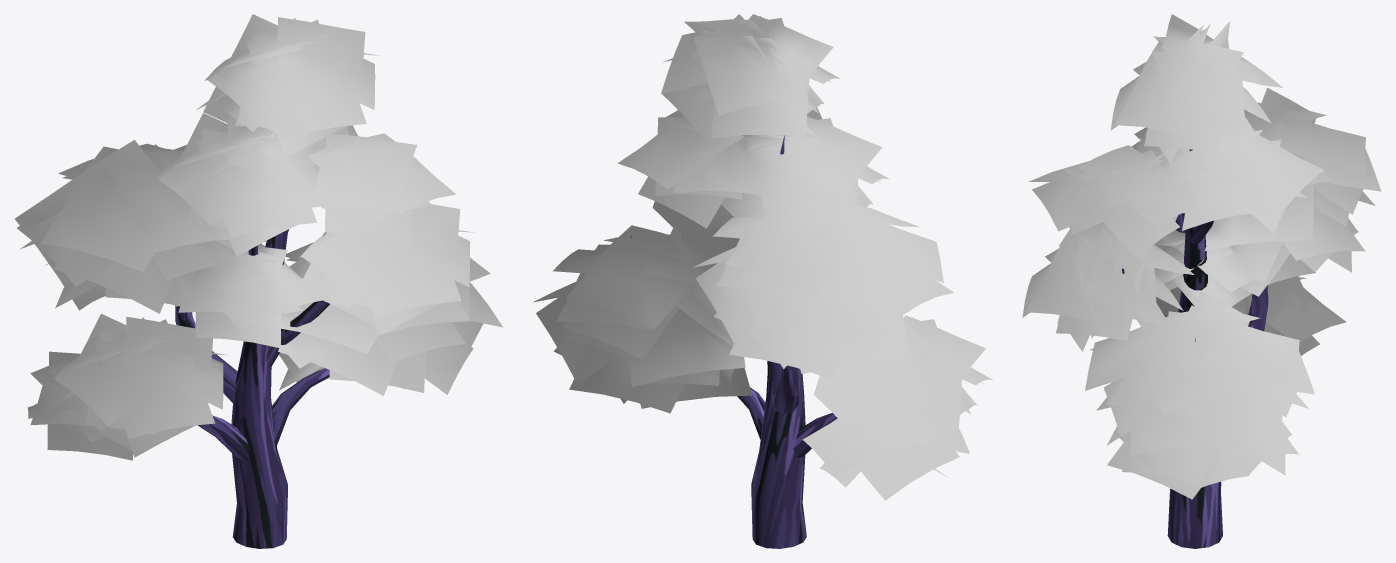
The model's file is Lushtree_03.fbx.
The picture shows the model from 3 angles, left to right: view 1: azimuth 30°, elevation 25°; view 2: azimuth 150°, elevation 25°; view 3: azimuth 270°, elevation 25°; orthographic projection. The views are drawn at different scales.
Visible parts, largest first — view 1: lushleaf_03, Lushtree_03; view 2: lushleaf_03, Lushtree_03; view 3: lushleaf_03, Lushtree_03.
Boxes of the visible parts, <box> form: lushleaf_03: <box>15,14,503,460</box>; Lushtree_03: <box>175,229,329,548</box>; lushleaf_03: <box>533,14,992,500</box>; Lushtree_03: <box>631,135,837,548</box>; lushleaf_03: <box>1022,14,1381,499</box>; Lushtree_03: <box>1122,149,1268,548</box>.
Size of the model in its own units: 458 by 515 by 320.
